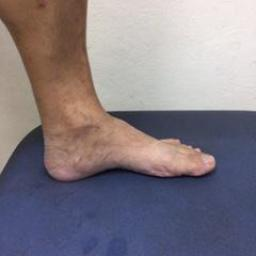Medial View -Left Foot-: (31, 95, 219, 197)
